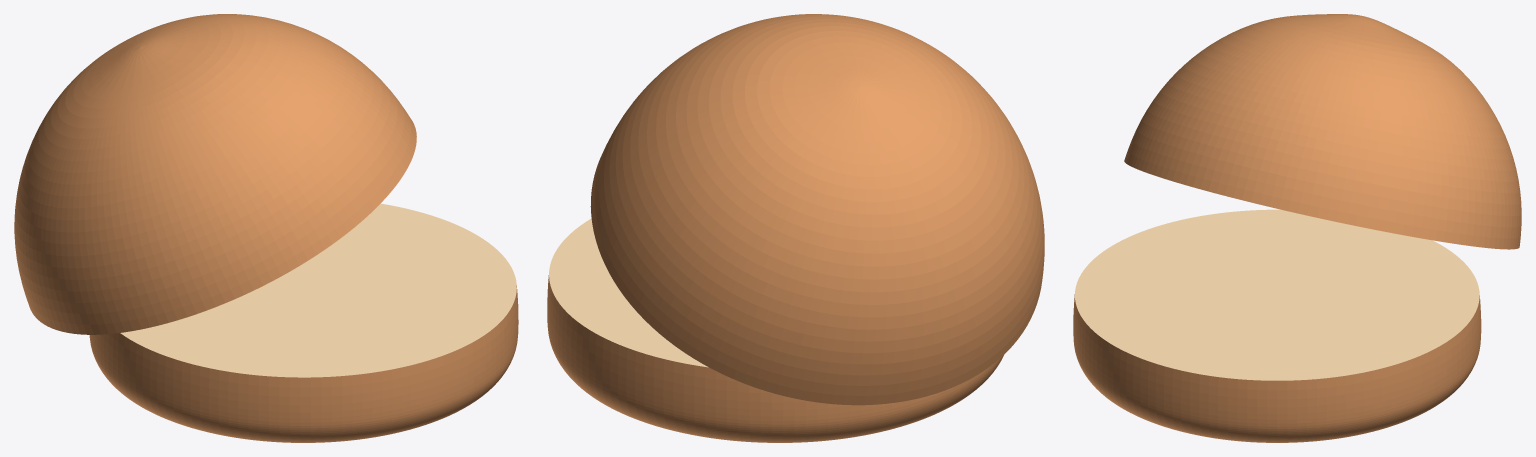
File: Sliced bun.fbx
3 views of the same model, side by side, from view 1: azimuth 30°, elevation 25°; view 2: azimuth 150°, elevation 25°; view 3: azimuth 270°, elevation 25° (orthographic). The views are drawn at different scales.
Parts seen in each view (by area): view 1: Sliced bun; view 2: Sliced bun; view 3: Sliced bun.
Part boxes in pixels (<box>): Sliced bun: <box>14,14,518,442</box>; Sliced bun: <box>547,14,1044,442</box>; Sliced bun: <box>1073,14,1521,442</box>.
Size of the model in its own units: 27.22 by 20.04 by 26.2.
